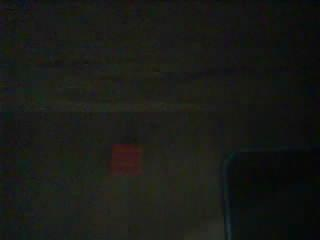lego: (110, 143, 144, 176)
